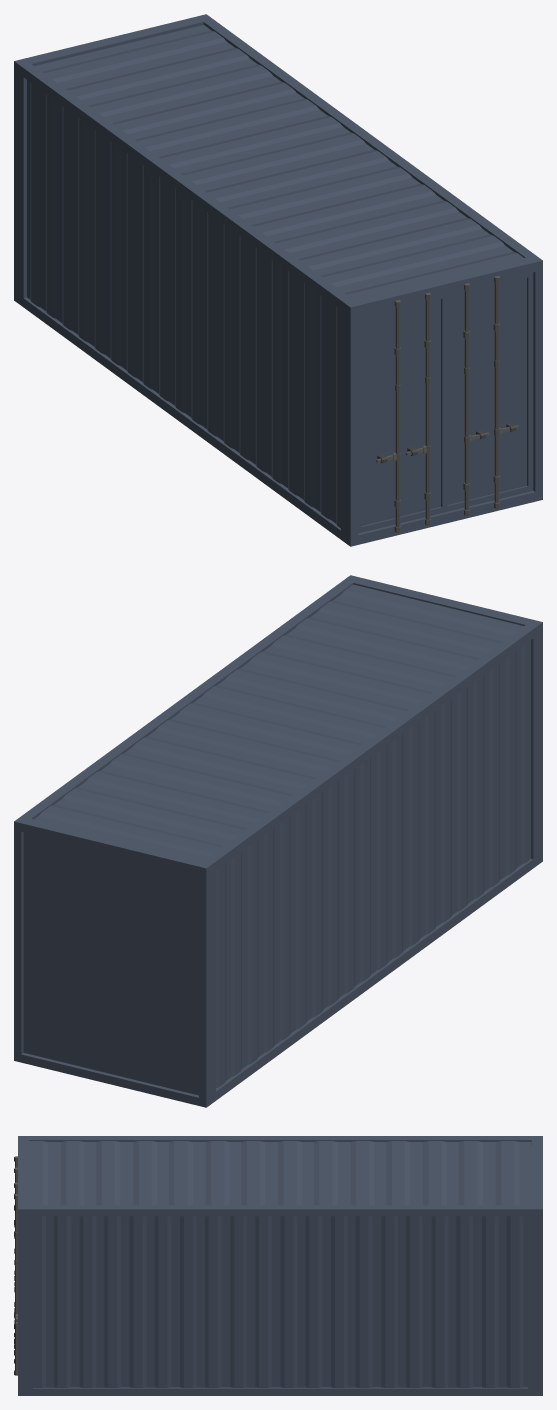
The model's file is Container1-2.fbx.
The picture shows the model from 3 angles, top to bottom: view 1: azimuth 30°, elevation 25°; view 2: azimuth 150°, elevation 25°; view 3: azimuth 270°, elevation 25°; orthographic projection. The views are drawn at different scales.
Visible parts, largest first — view 1: Container.001_LOD0; view 2: Container.001_LOD0; view 3: Container.001_LOD0.
Part boxes in pixels (x1,y1,x2,y2): Container.001_LOD0: (14, 14, 542, 546); Container.001_LOD0: (14, 575, 542, 1107); Container.001_LOD0: (14, 1136, 542, 1395).
Size of what is drawn, in the model's own units: 432 by 513 by 1318.
Materials: 1 (1 with a texture image).
